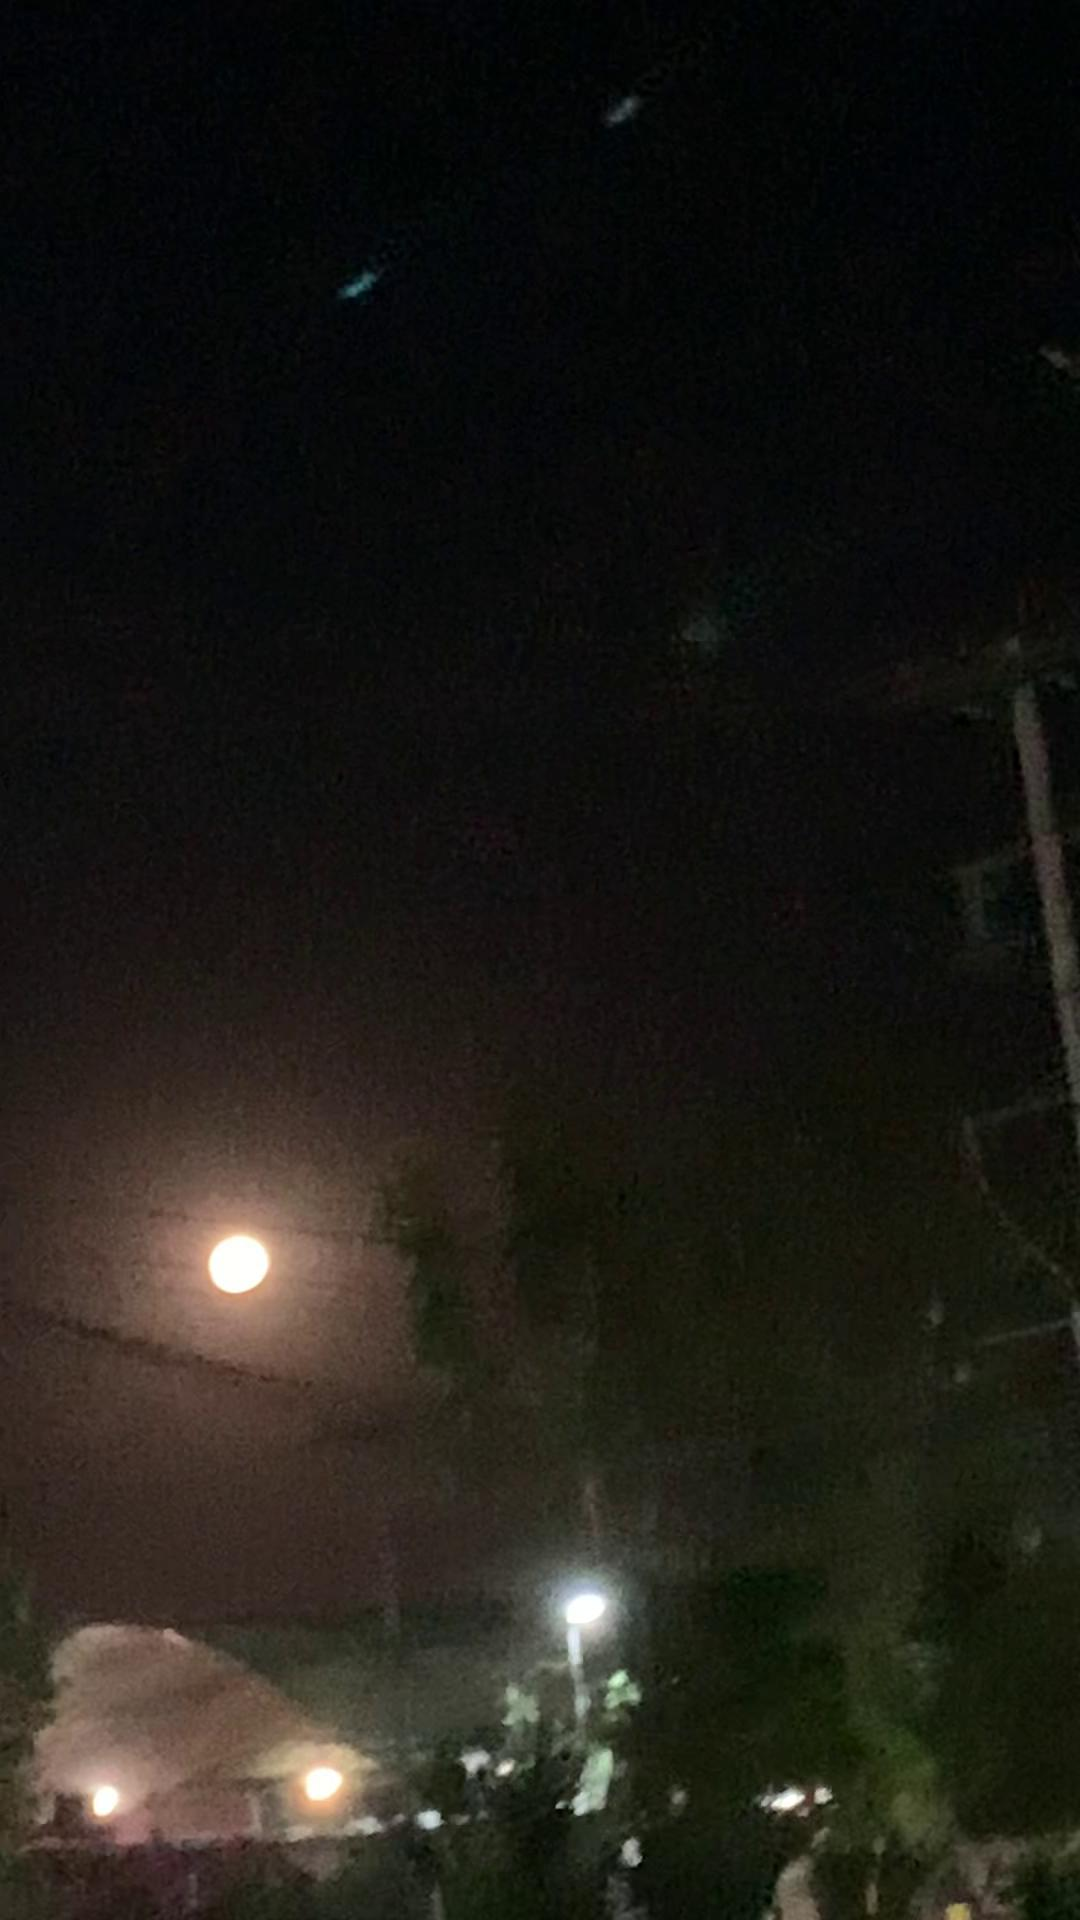moon: (202, 1218, 299, 1302)
